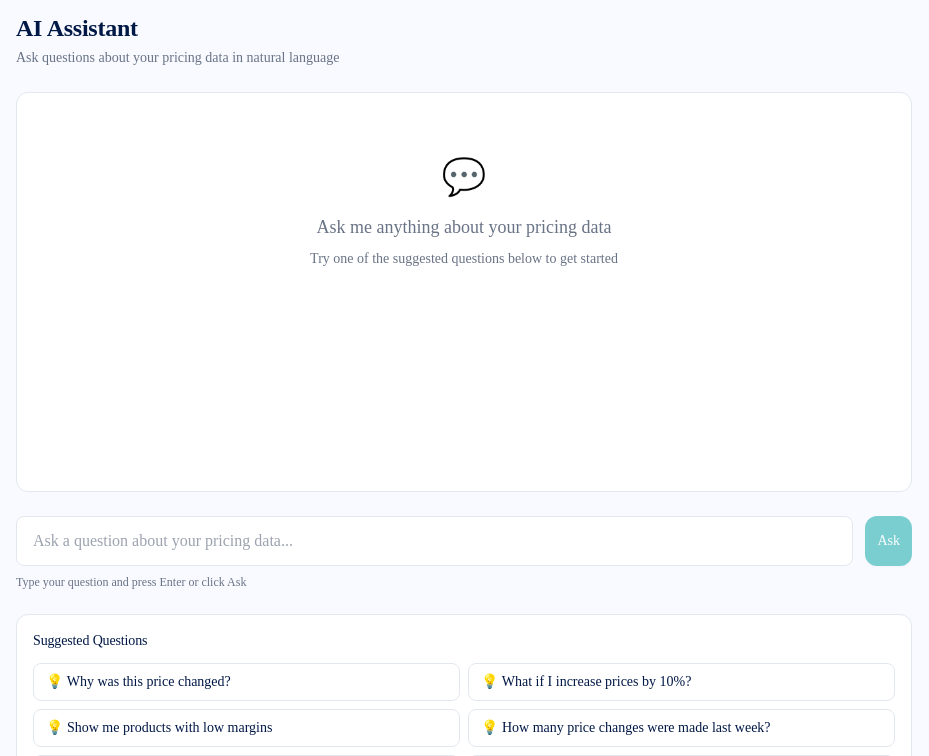
AssistantPage › enables Ask button when input has text
The width and height of the screenshot is (929, 756).
Type "Test question" into the field labelled "Ask a question about your pricing data" at (435, 541), box [16,516,853,566]
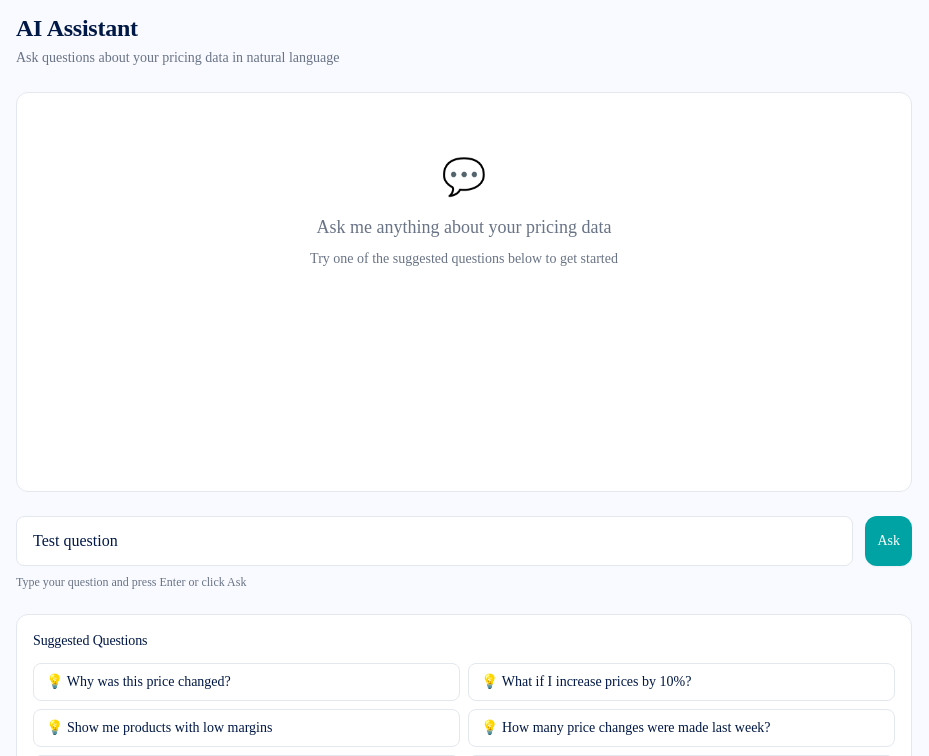
Result: the button with aria-label "ask the ai assistant" is enabled at [865,516,912,566]
